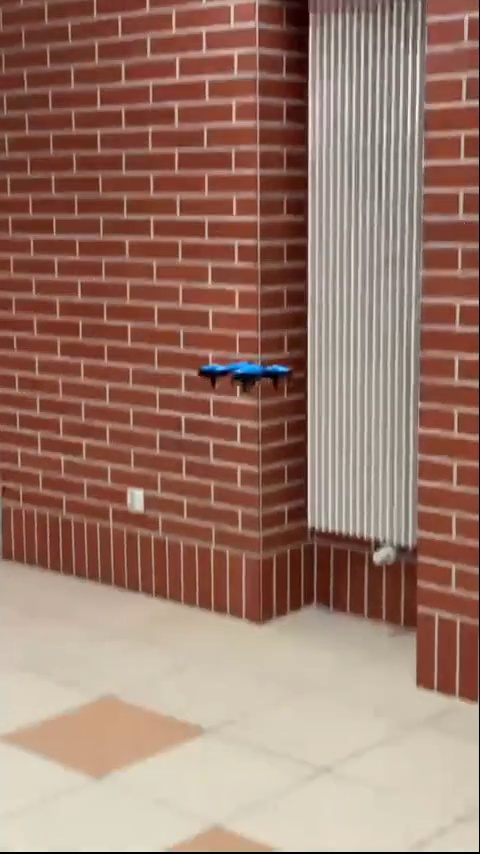drone: (198, 352, 293, 392)
